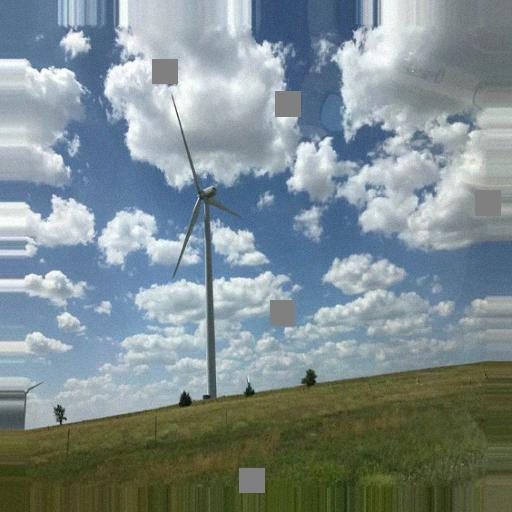wind turbine: (168, 95, 245, 406)
